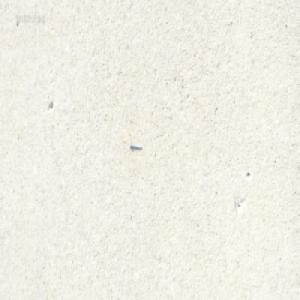Nail: (128, 141, 141, 149)
